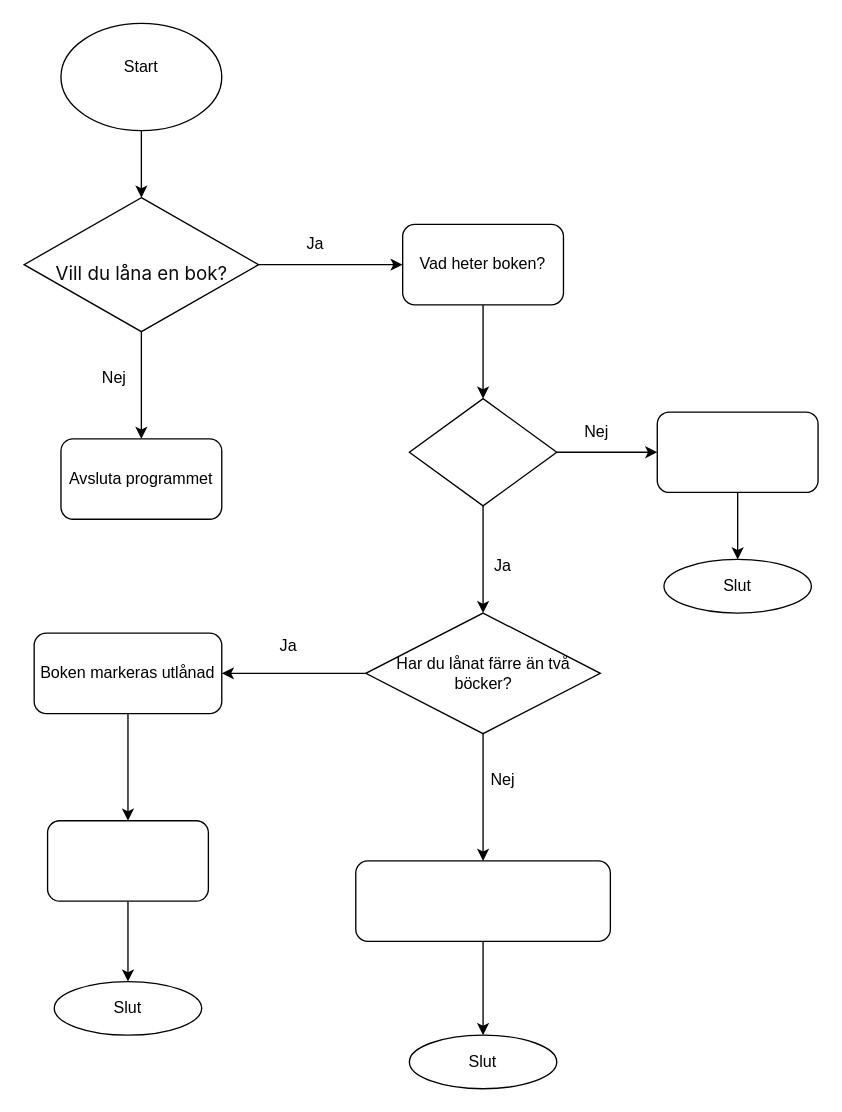
Some shapes in this 842 by 1112 pixel diagram are drawn without their labels. The box of each missing label's shape, as (x1, y1, x2, y2) in pixels:
Boken finns inte: (656, 411, 818, 492)
Du har redan lånat två böcker: (354, 860, 610, 941)
Finns boken?: (408, 397, 557, 506)
Visa bekräftelse: (46, 819, 208, 901)
